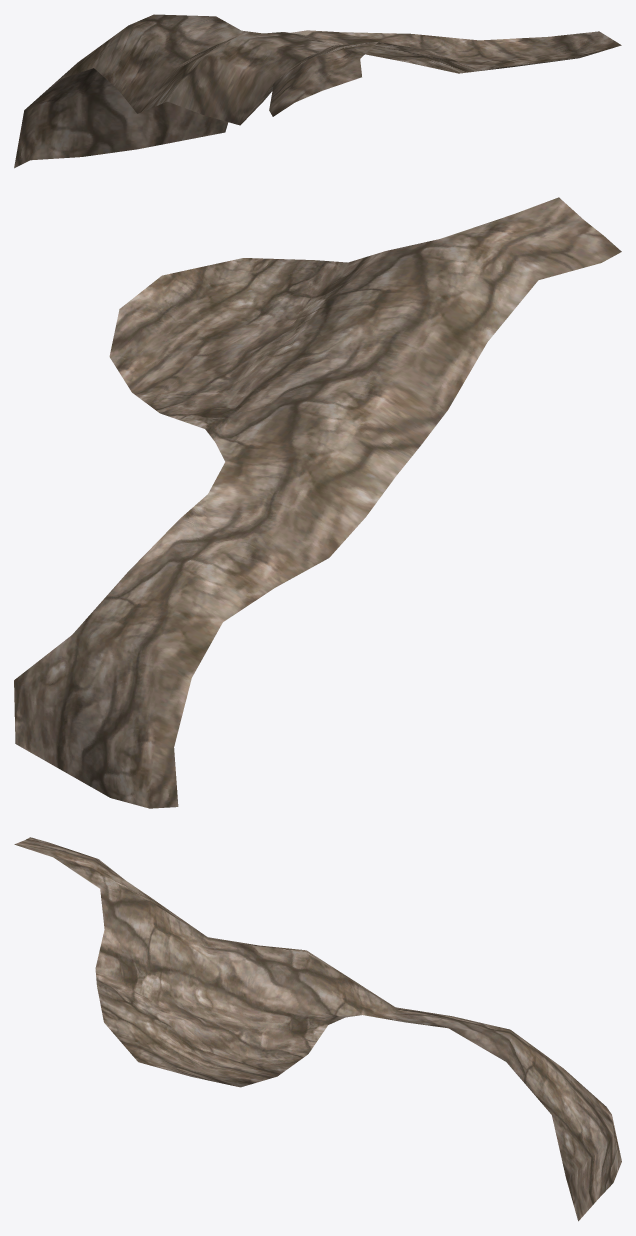
Rendered from EKH_THRONE_PS_TH_THRONE_DAM_01.fbx.
3 renders of one model, top to bottom at view 1: azimuth 30°, elevation 25°; view 2: azimuth 150°, elevation 25°; view 3: azimuth 270°, elevation 25°, orthographic. The views are drawn at different scales.
Parts seen in each view (by area): view 1: EKH_THRONE_PS_TH_THRONE_DAM_01; view 2: EKH_THRONE_PS_TH_THRONE_DAM_01; view 3: EKH_THRONE_PS_TH_THRONE_DAM_01.
Boxes of the visible parts, x1,y1,x2,y2 form: EKH_THRONE_PS_TH_THRONE_DAM_01: [14, 14, 621, 168]; EKH_THRONE_PS_TH_THRONE_DAM_01: [14, 197, 621, 808]; EKH_THRONE_PS_TH_THRONE_DAM_01: [14, 837, 621, 1221].
Size of the model in its own units: 67835 by 57375 by 104791.
Materials: 1 (1 with a texture image).
